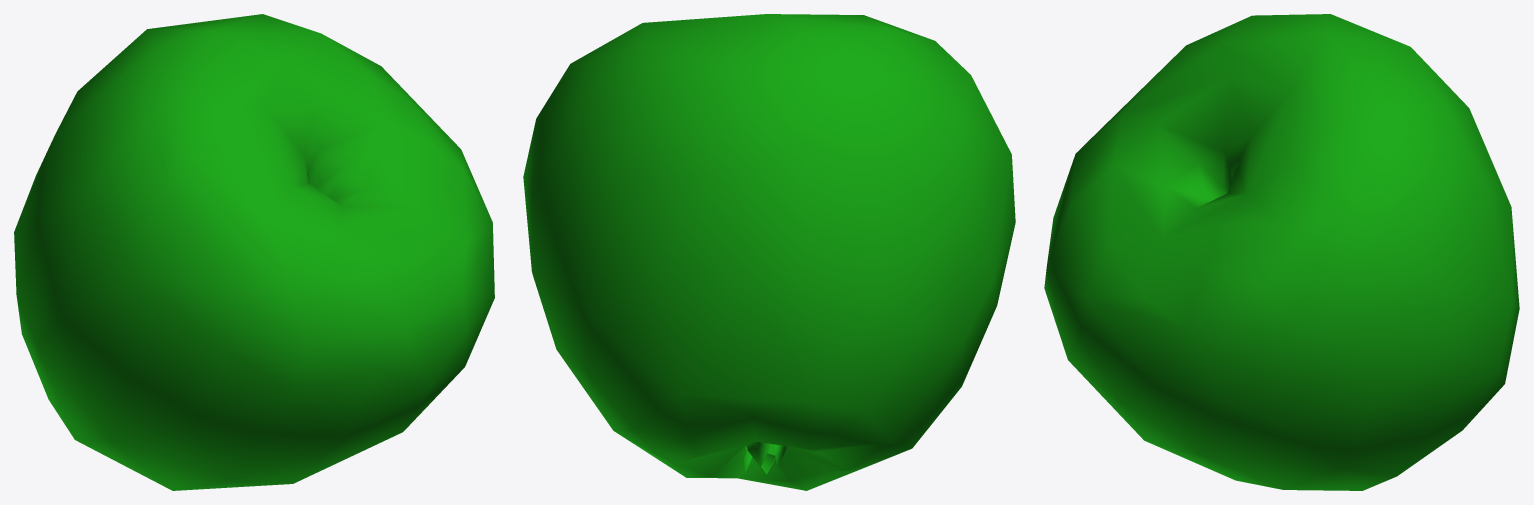
Rendered from Apple.fbx.
3 views of the same model, side by side, from view 1: azimuth 30°, elevation 25°; view 2: azimuth 150°, elevation 25°; view 3: azimuth 270°, elevation 25° (orthographic). The views are drawn at different scales.
Visible parts, largest first — view 1: apple; view 2: apple; view 3: apple.
Boxes of the visible parts, left/top/right/bottom form: apple: left=14, top=14, right=494, bottom=490; apple: left=523, top=14, right=1015, bottom=490; apple: left=1044, top=14, right=1519, bottom=490.
Bounding box in the file's own units: 169 × 174 × 170.
